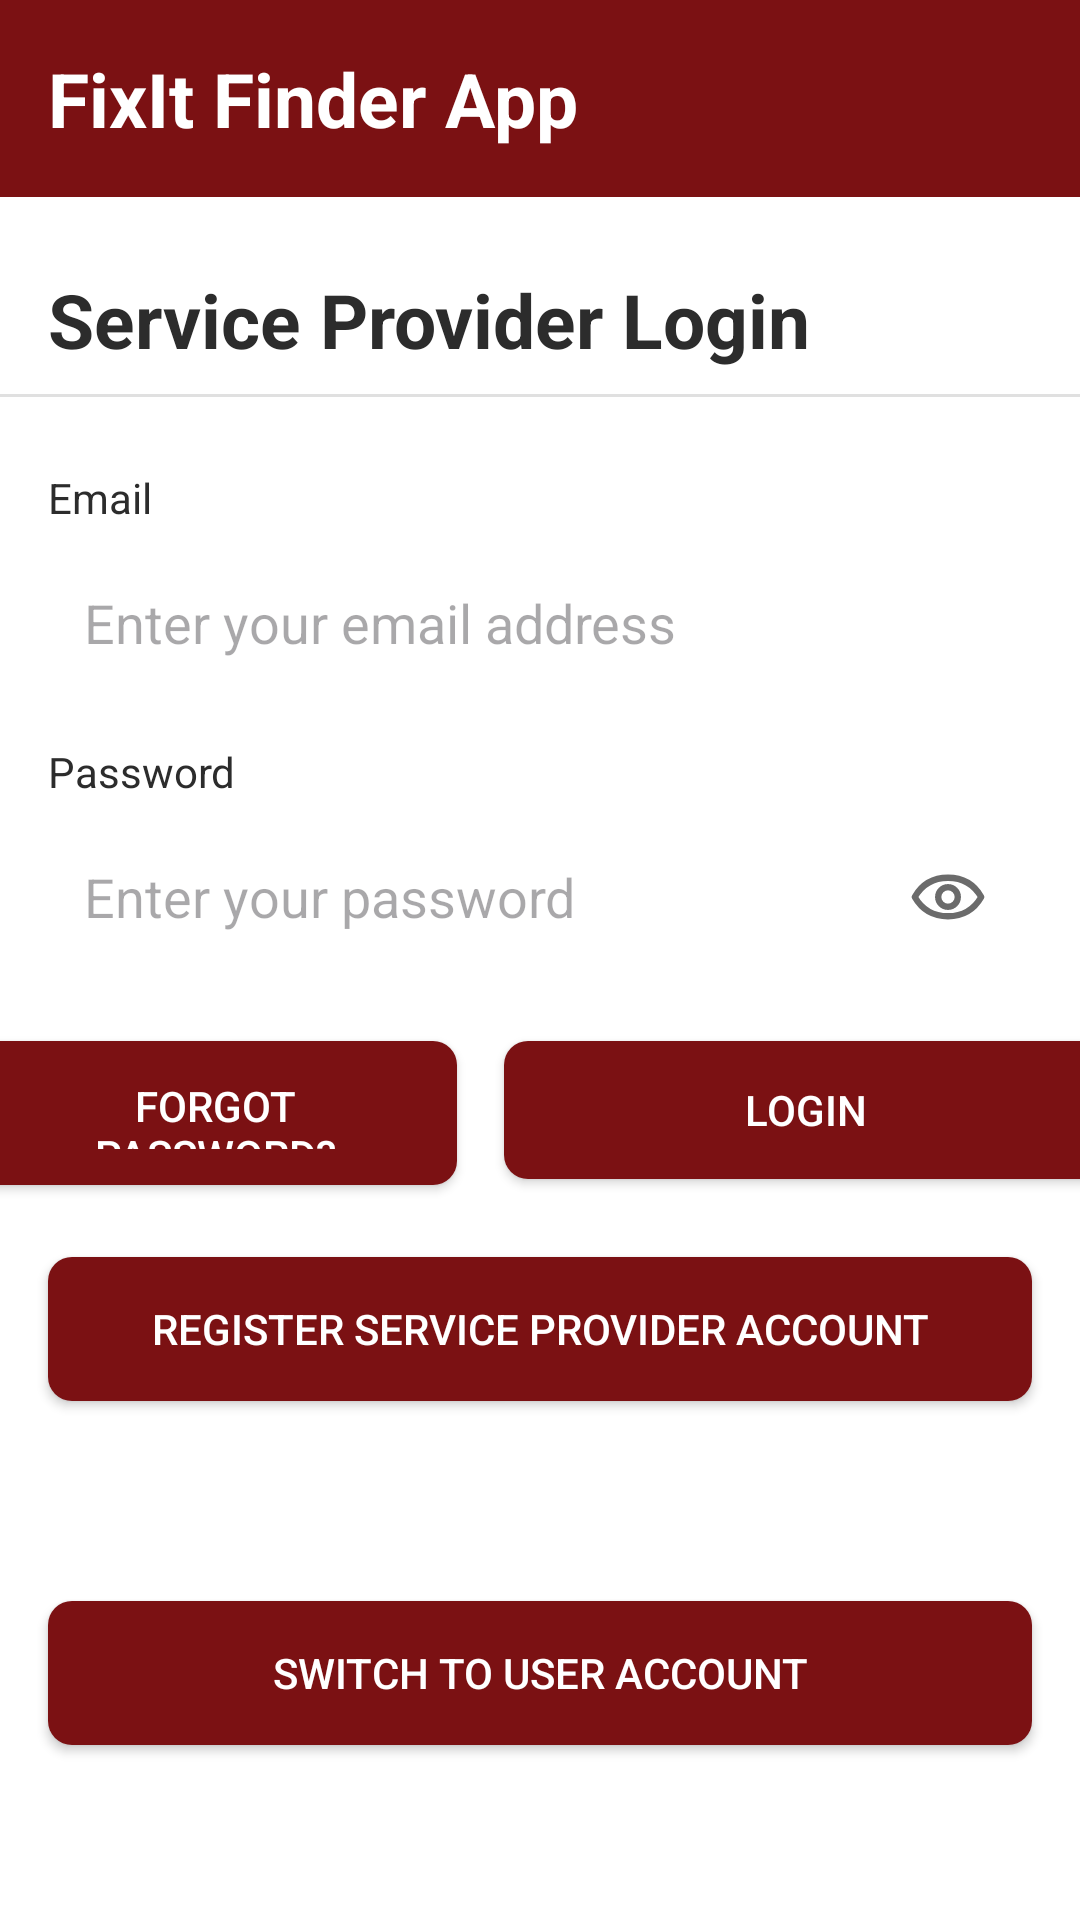

Icons on this 1080 × 1920 Android screen, each with its box as (x1, y1, x2, y2):
Show/Hide Password: (911, 874, 985, 920)
